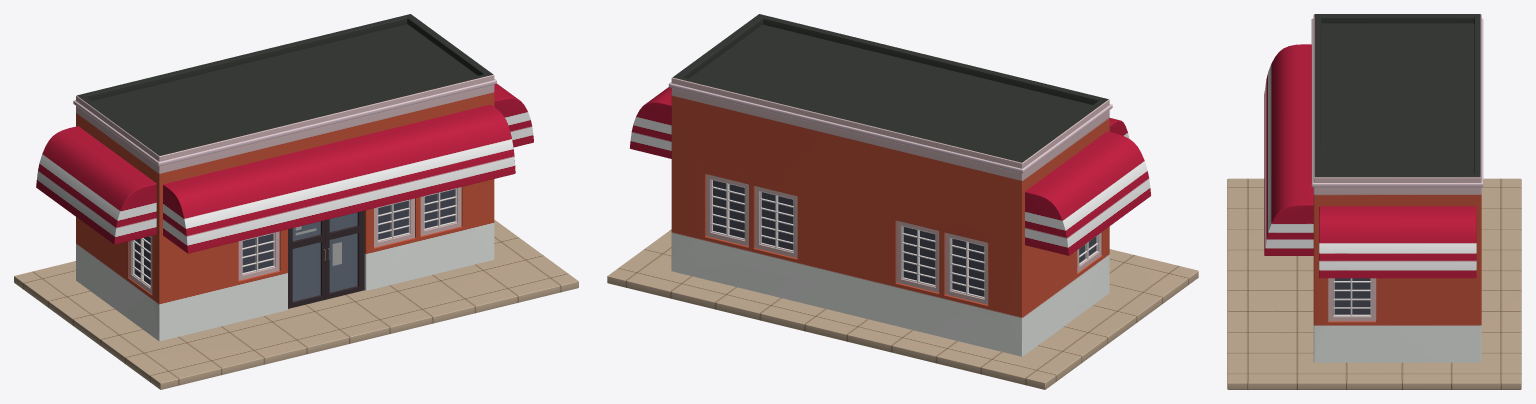
Rendered from Store.fbx.
3 renders of one model, left to right at view 1: azimuth 30°, elevation 25°; view 2: azimuth 150°, elevation 25°; view 3: azimuth 270°, elevation 25°, orthographic. The views are drawn at different scales.
Visible parts, largest first — view 1: node_id30; view 2: node_id30; view 3: node_id30.
Boxes of the visible parts, x1,y1,x2,y2 form: node_id30: [14, 14, 578, 389]; node_id30: [607, 14, 1198, 389]; node_id30: [1227, 14, 1521, 389].
Size of the model in its own units: 6207 by 2712 by 3757.
1 material, 1 textured.
